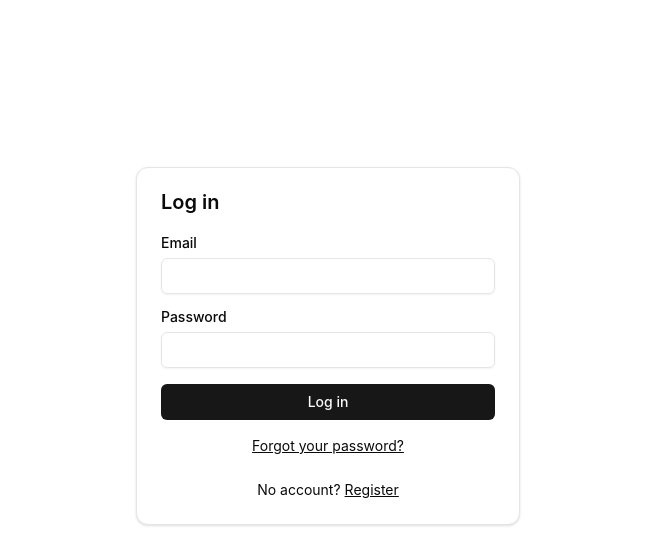
Test: login screen › Successful login
Type "alice@example.com" into the field labelled "Email" at (328, 276), box 161,258 -> 495,294
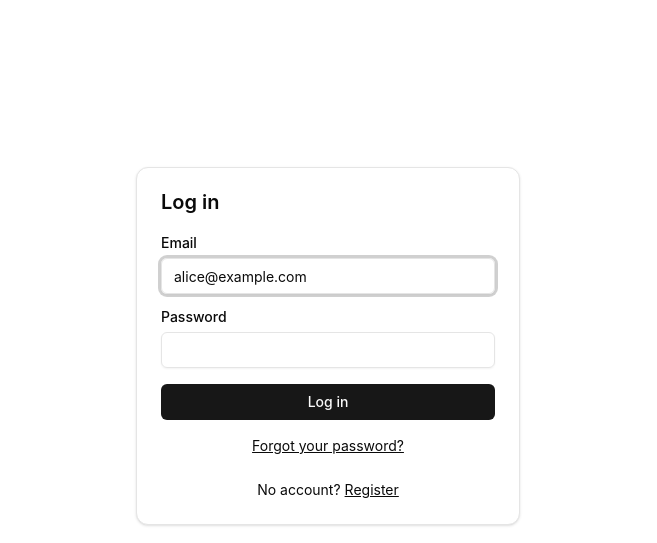
Type "password1" into the password field labelled "Password" at (328, 350), box 161,332 -> 495,368
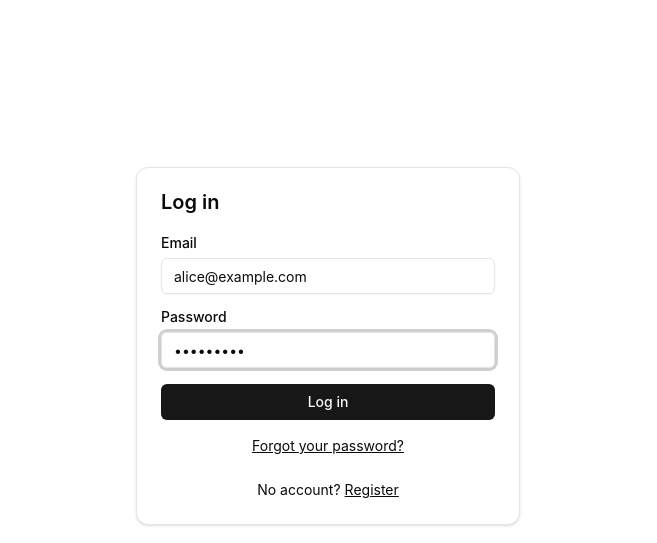
Click the button "Log in" at (328, 402), box 161,384 -> 495,420
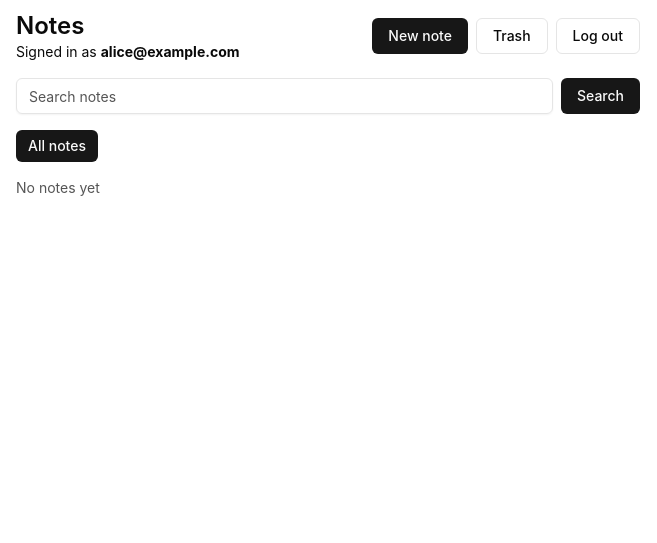
Expected: the button "Log out" is shown, 556,18 -> 640,54
